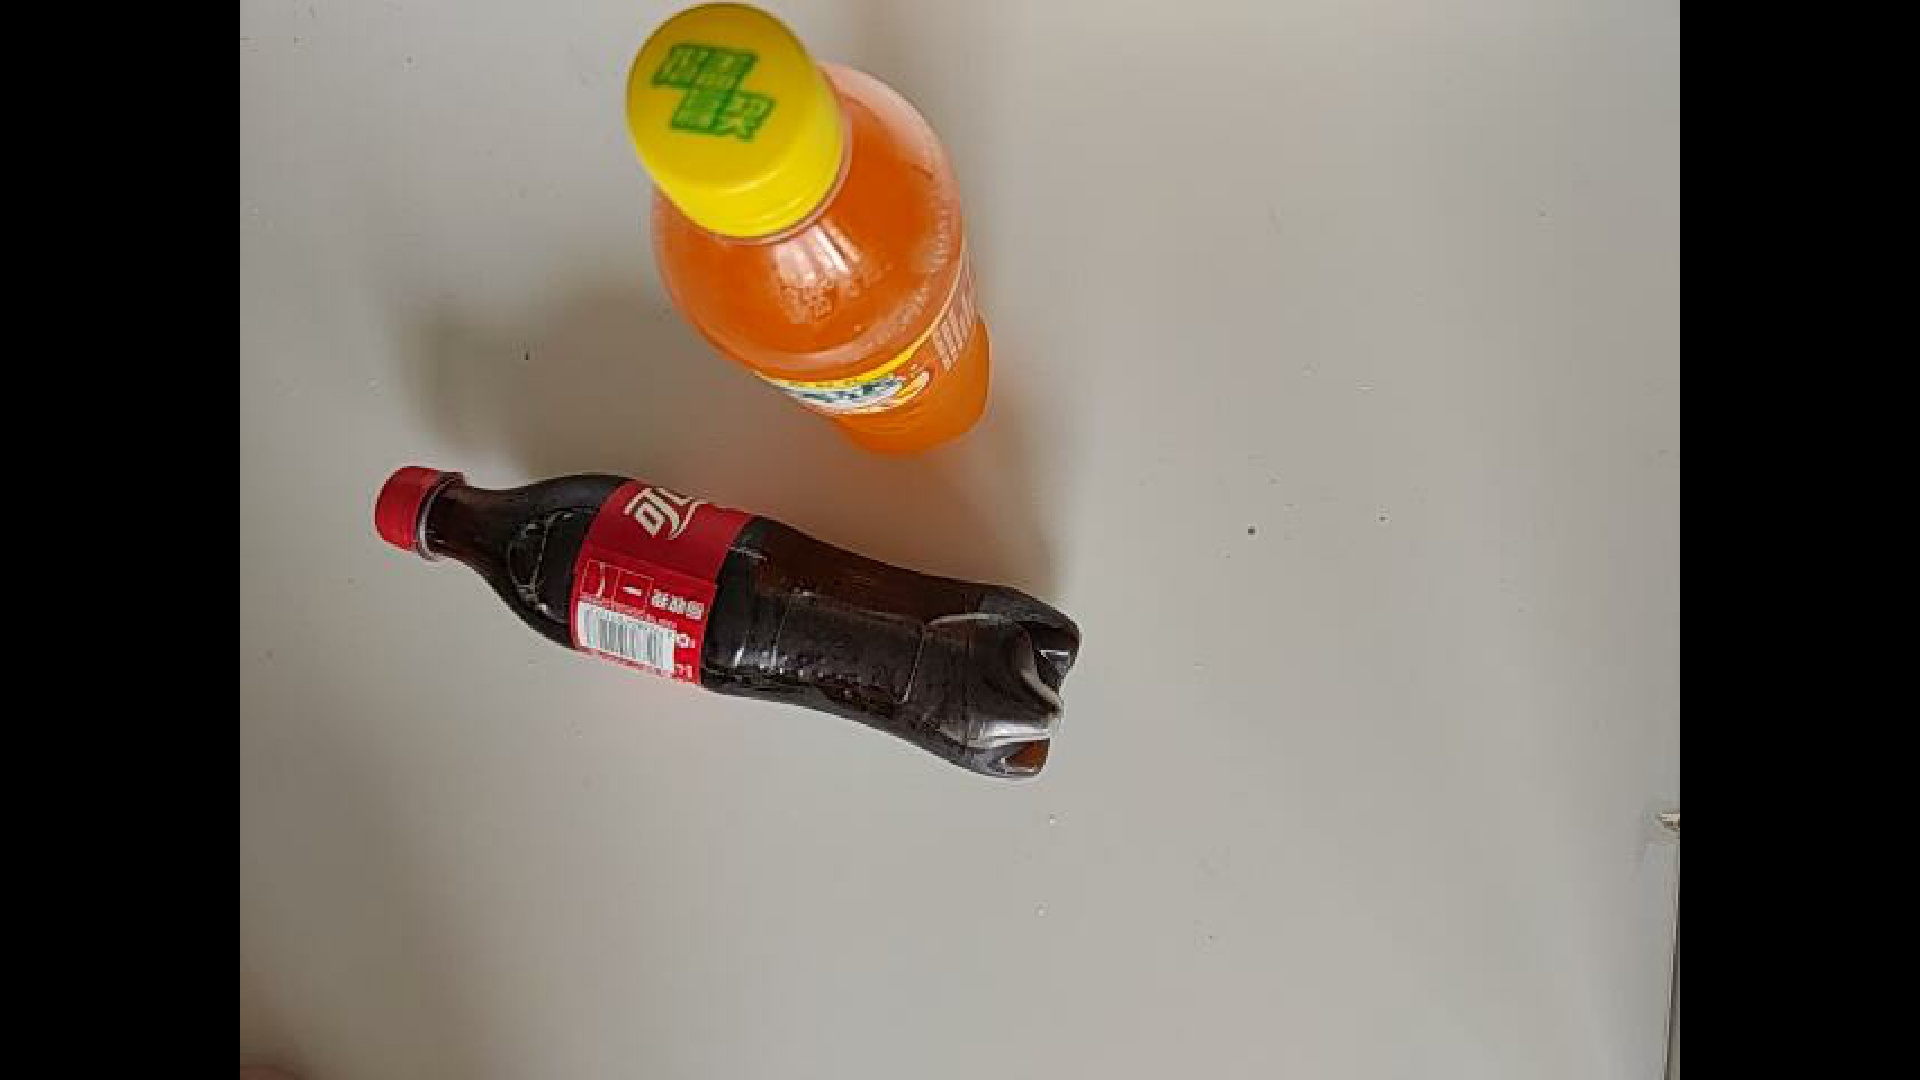cola: (306, 404, 1098, 705)
fenta: (622, 0, 993, 459)
